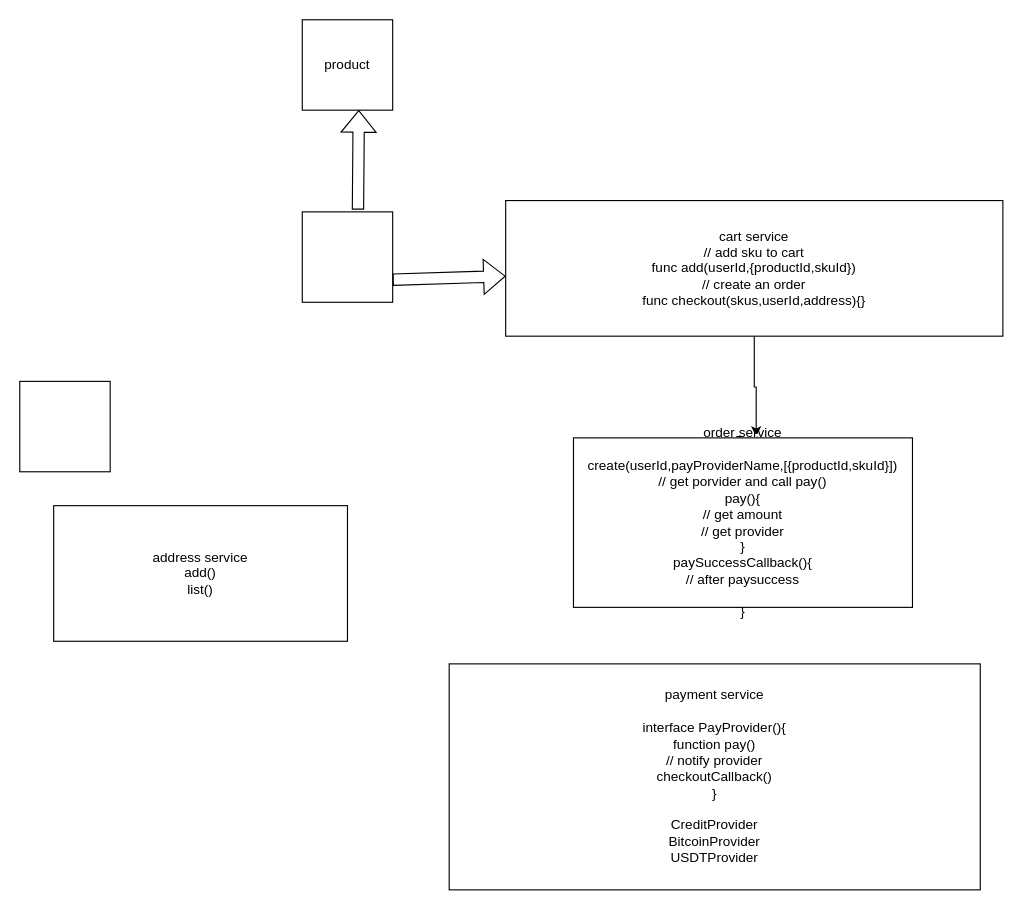
Image size: 1023x910. Some labels were removed from this diagram. The shapes that lost their labels are listed below. From the top down, each one's centre as x and y in pixels, then its label:
At (x=347, y=256): "sku".
At (x=64, y=426): "user".
